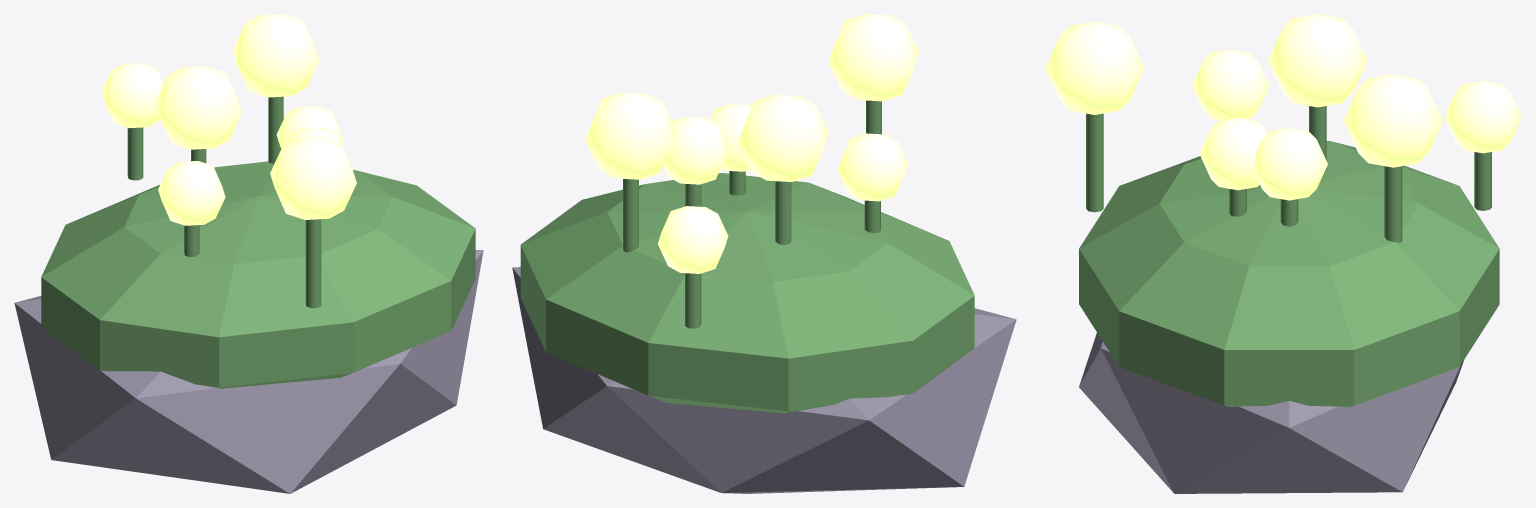
The model's file is glowmoss.glb.
3 renders of one model, left to right at view 1: azimuth 30°, elevation 25°; view 2: azimuth 150°, elevation 25°; view 3: azimuth 270°, elevation 25°, orthographic. The views are drawn at different scales.
Visible parts, largest first — view 1: Glowmoss; view 2: Glowmoss; view 3: Glowmoss.
Boxes of the visible parts, x1,y1,x2,y2 form: Glowmoss: [14, 14, 483, 493]; Glowmoss: [512, 14, 1016, 493]; Glowmoss: [1045, 14, 1521, 493].
Bounding box in the file's own units: 0.4996 × 0.4435 × 0.4312.
